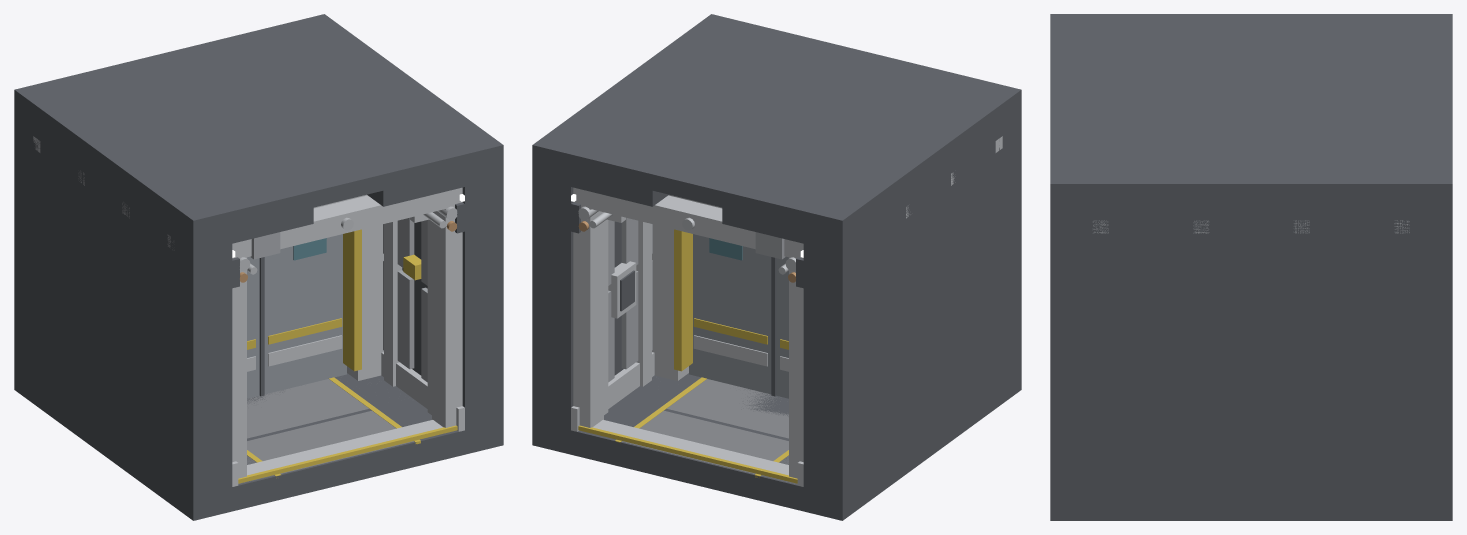
Rendered from corridor_door.glb.
3 renders of one model, left to right at view 1: azimuth 30°, elevation 25°; view 2: azimuth 150°, elevation 25°; view 3: azimuth 270°, elevation 25°, orthographic. The views are drawn at different scales.
Parts seen in each view (by area): view 1: corridor_door; view 2: corridor_door; view 3: corridor_door.
Boxes of the visible parts, <box> form: corridor_door: <box>14,14,503,520</box>; corridor_door: <box>532,14,1021,520</box>; corridor_door: <box>1050,14,1452,520</box>.
Size of the model in its own units: 4 by 3.7 by 4.
